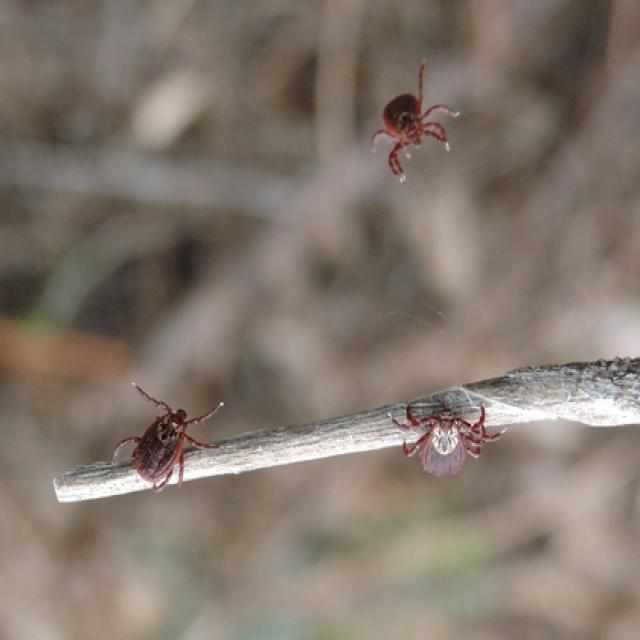Dermacentor Reticulatus-F: (127, 385, 224, 492), (370, 63, 456, 180), (389, 388, 500, 476)
